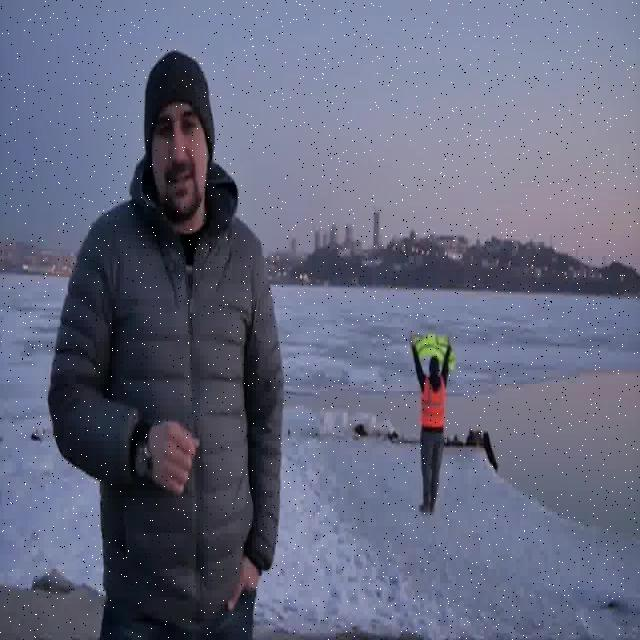Person: (46, 49, 288, 640), (402, 333, 458, 513)
Vest: (414, 376, 448, 432)
